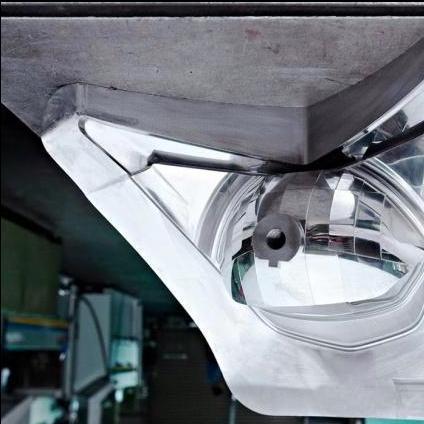hole: (263, 226, 287, 252)
